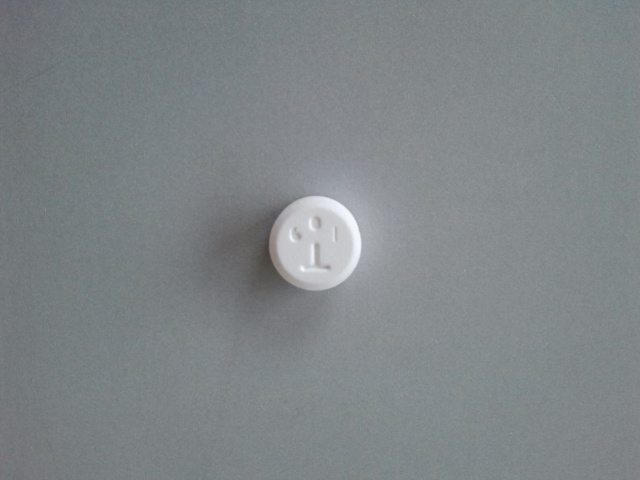T: (297, 238, 340, 275)
